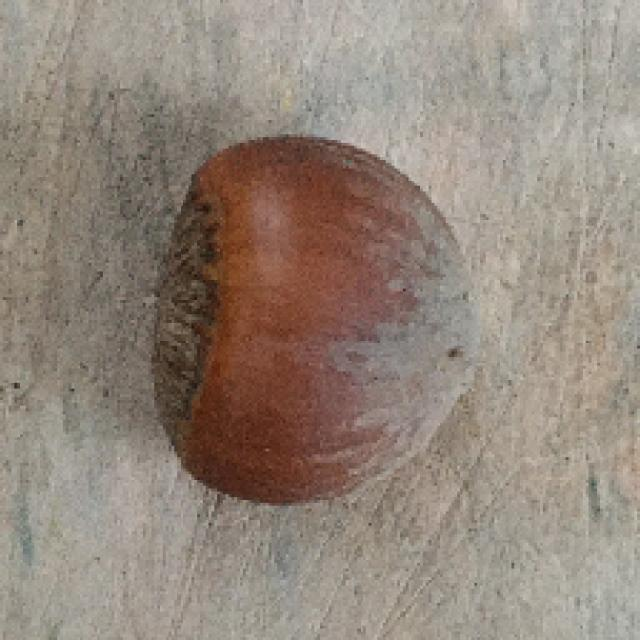damagedHazelnut: (145, 134, 490, 500)
